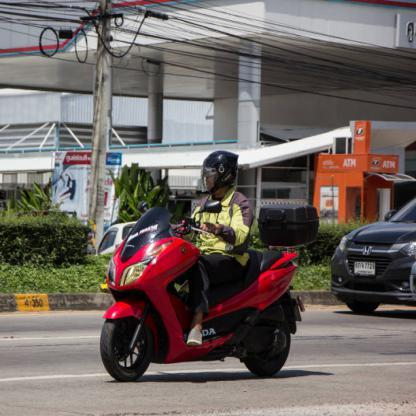Motorcycle: (98, 201, 302, 383)
